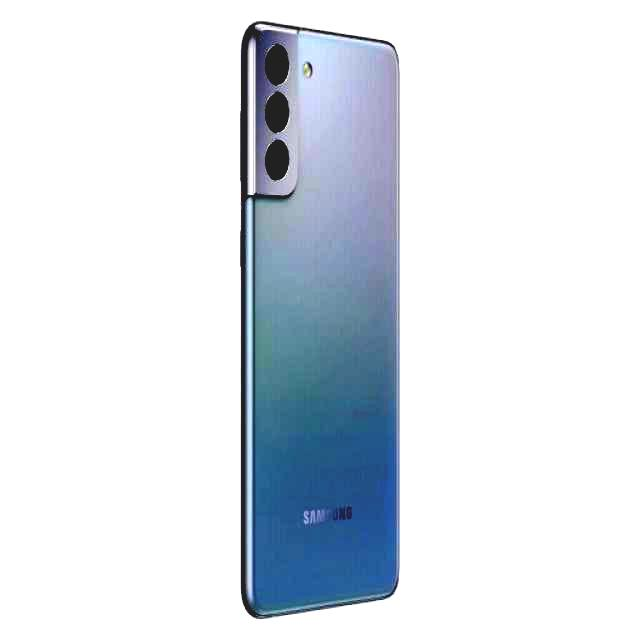lens_back: (263, 35, 292, 193)
